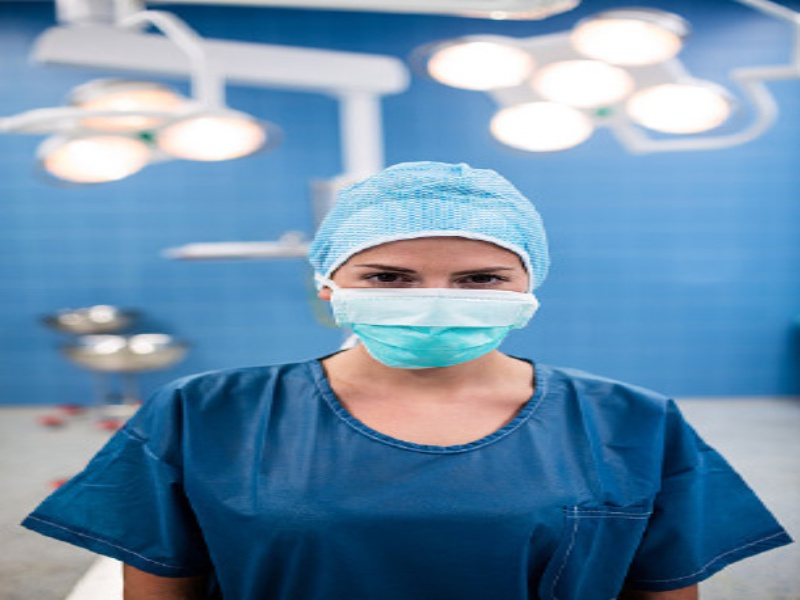mask: (317, 175, 556, 371)
